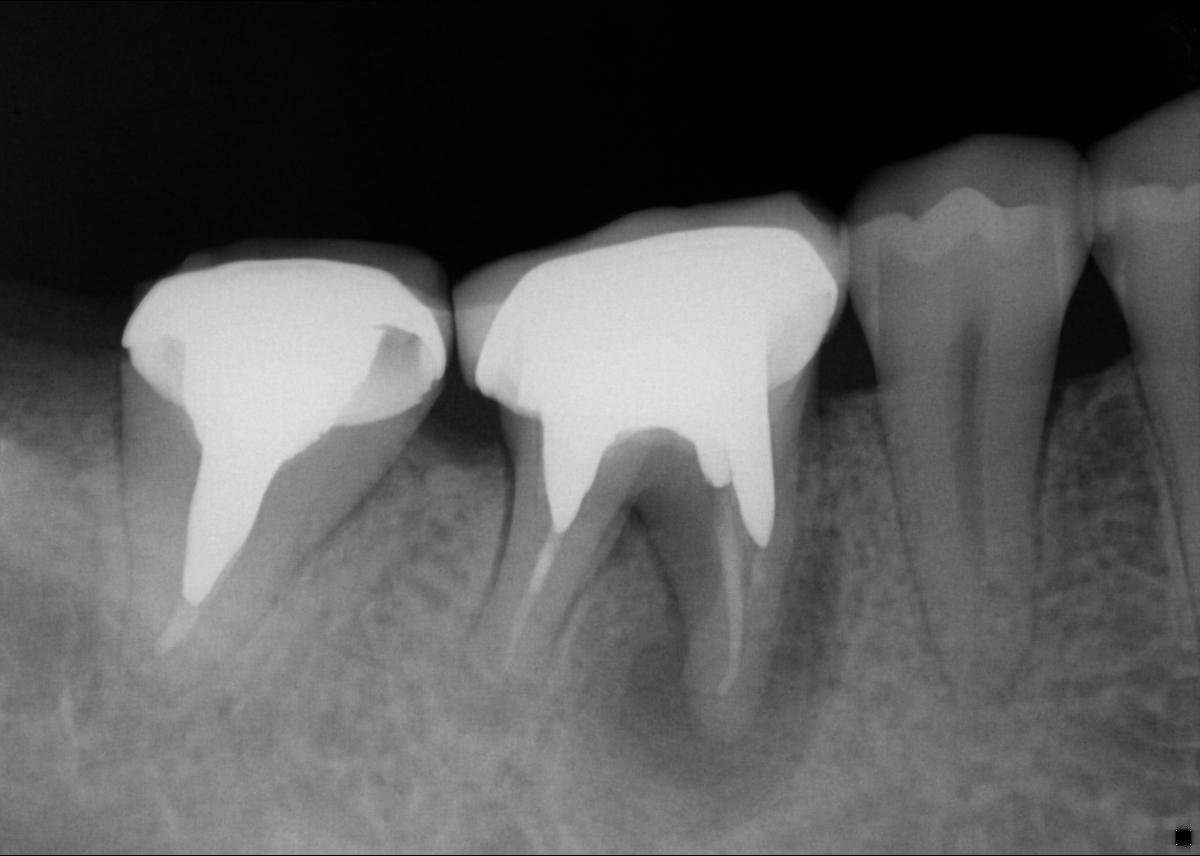Dental Caries: (598, 504, 851, 828)
